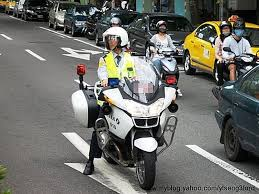helmet: (102, 27, 129, 45), (109, 18, 123, 31), (221, 20, 233, 34), (156, 20, 166, 32)
